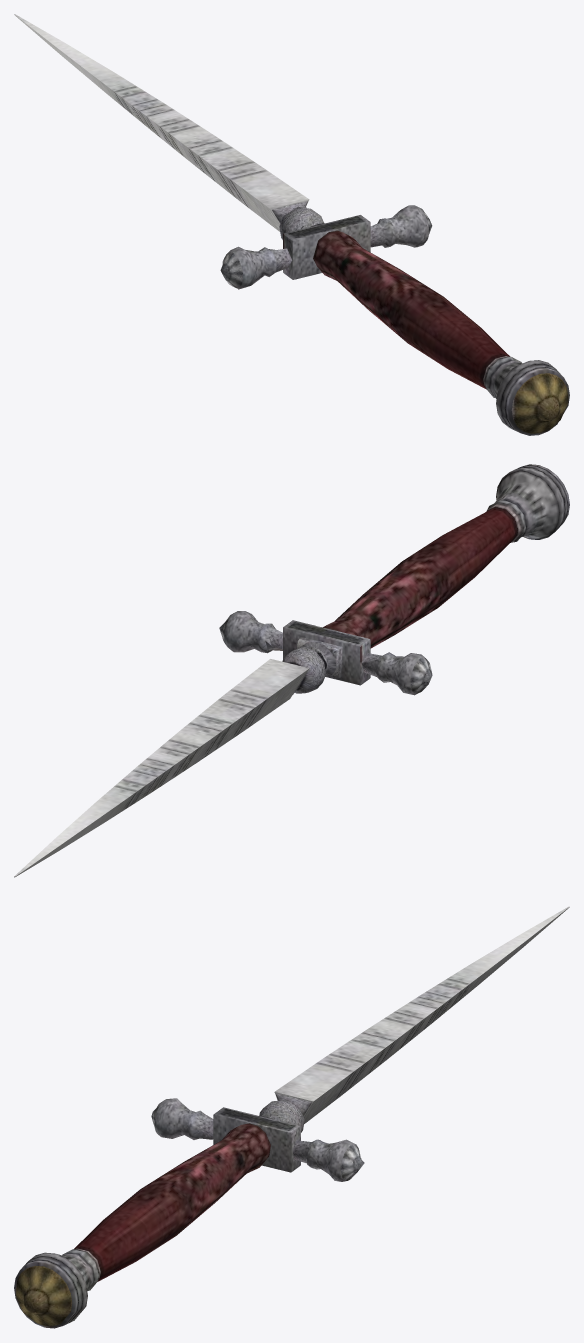
The model's file is wand_s_fusetto_fusetto.glb.
3 renders of one model, top to bottom at view 1: azimuth 30°, elevation 25°; view 2: azimuth 150°, elevation 25°; view 3: azimuth 330°, elevation 25°, orthographic.
Bounding box in the file's own units: 0.2203 × 0.0691 × 0.9758.
Materials: 1 (1 with a texture image).
